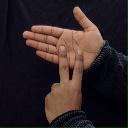hand: (21, 5, 104, 71), (44, 46, 84, 124)
